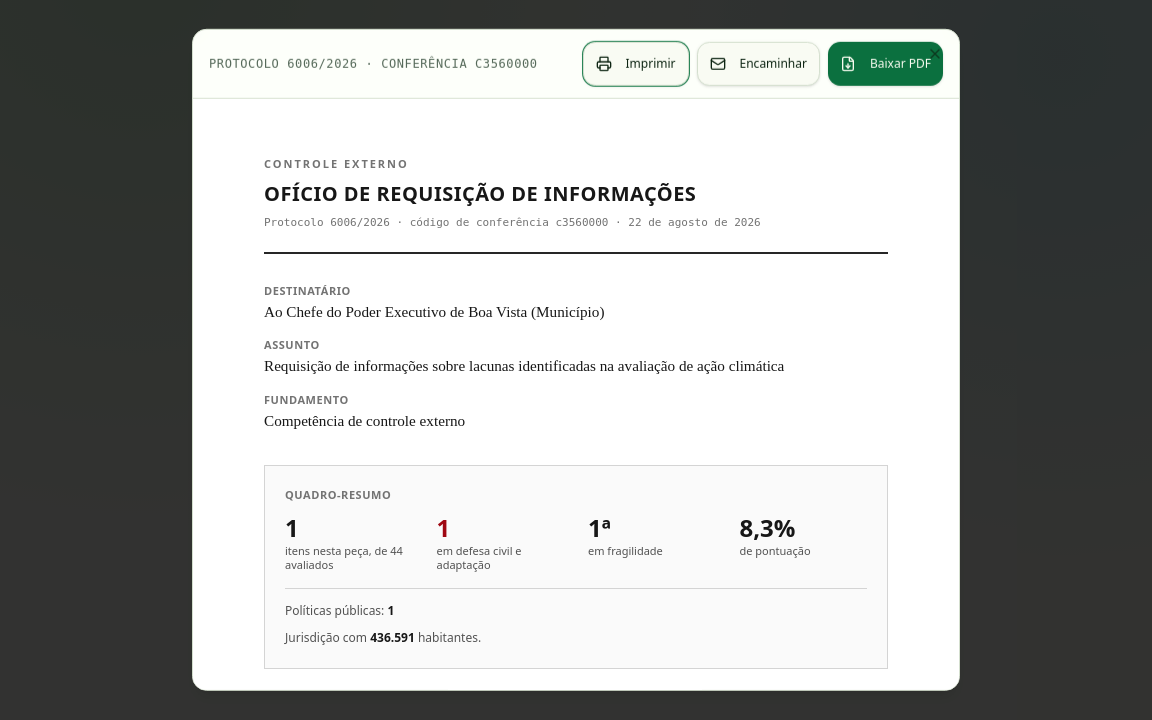
it: encaminhamento › a mensagem cita protocolo, código de conferência e fonte
What coordinates should you click on to do the following:
click the button "Encaminhar"
I would click on:
 (758, 64)
Its box is [696, 42, 820, 86].
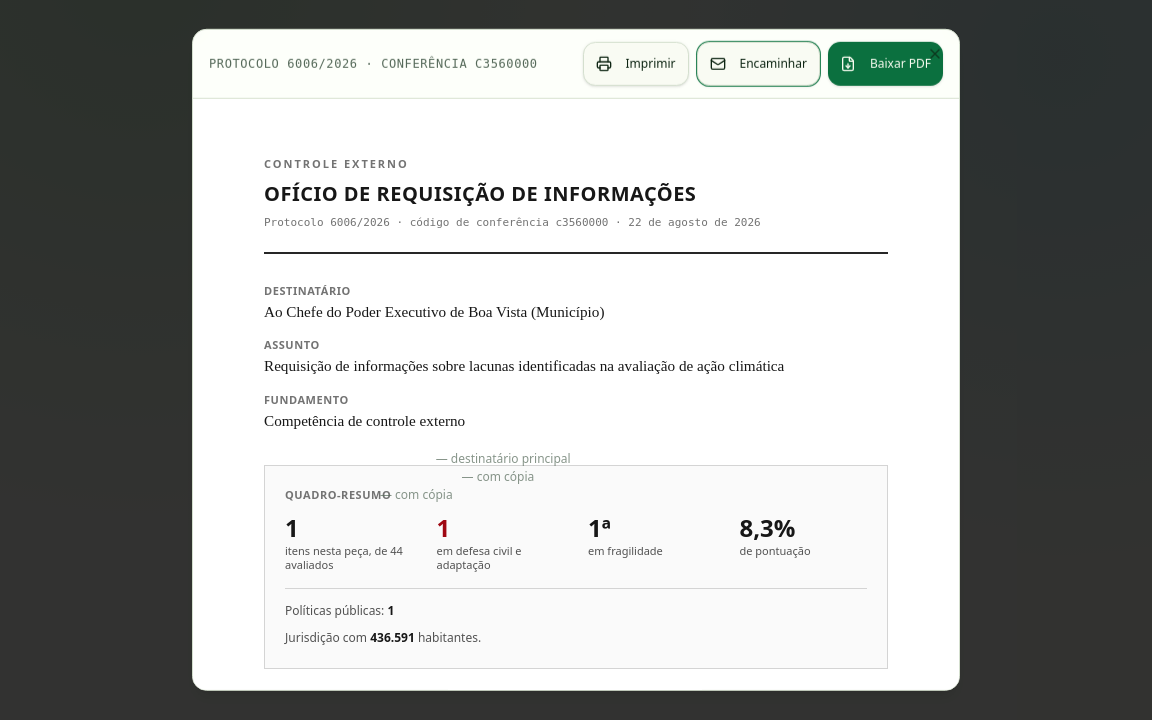
Now the text "Encaminho em anexo" shows "Painel ClimaBrasil", box [220, 231, 931, 560]
